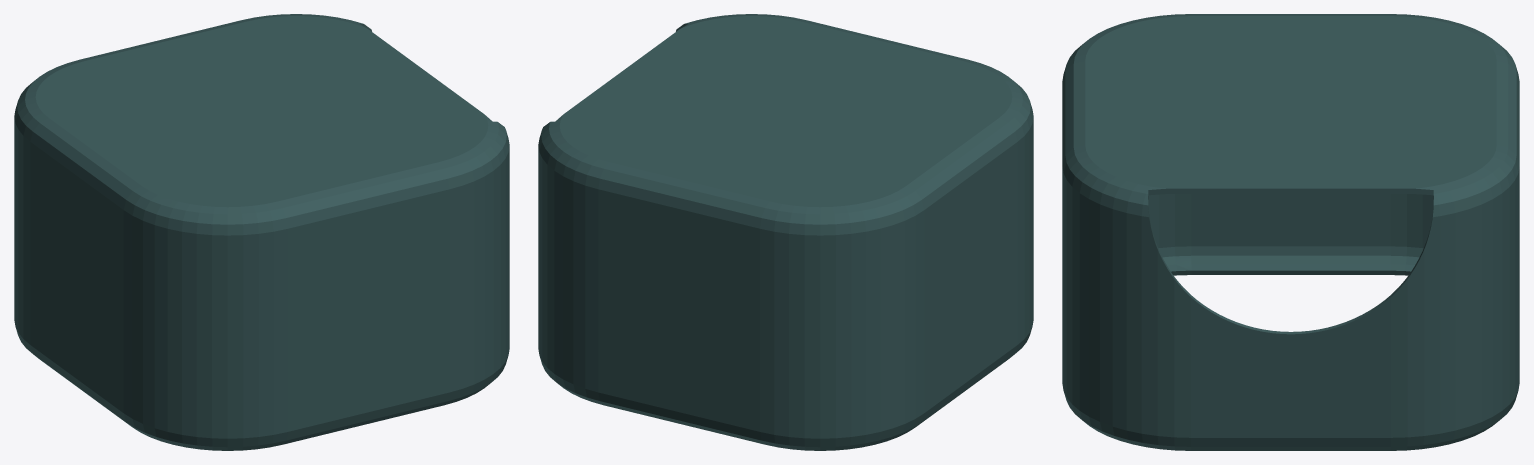
The model's file is moscow-loom-entry-shell.glb.
The picture shows the model from 3 angles, left to right: view 1: azimuth 30°, elevation 25°; view 2: azimuth 150°, elevation 25°; view 3: azimuth 270°, elevation 25°; orthographic projection. The views are drawn at different scales.
Visible parts, largest first — view 1: LoomEntryShell; view 2: LoomEntryShell; view 3: LoomEntryShell.
Part boxes in pixels (<box>): LoomEntryShell: <box>14,14,509,450</box>; LoomEntryShell: <box>538,14,1033,450</box>; LoomEntryShell: <box>1062,14,1519,450</box>.
Size of the model in its own units: 0.16 by 0.1 by 0.16.
